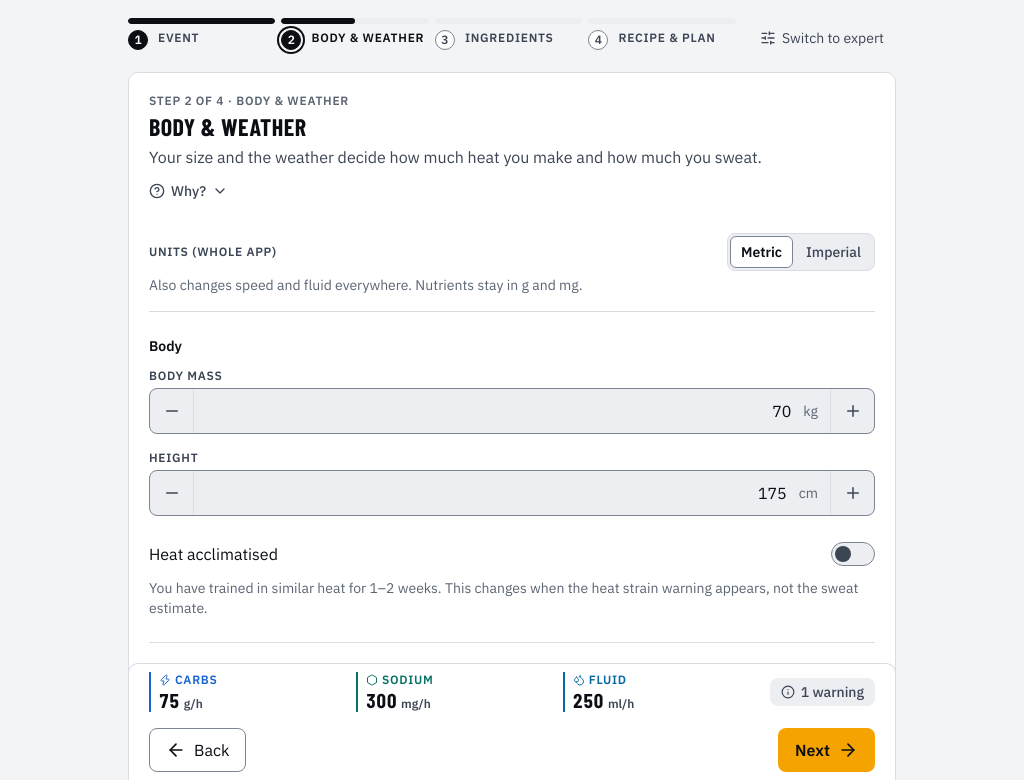
it: Guided step 2: sweat › answers No for the estimate and shows the estimate, the saltiness and its warnings
This screenshot has width=1024, height=780.
Click the button with test id "guided-next" at (827, 750), box [778, 728, 875, 772]
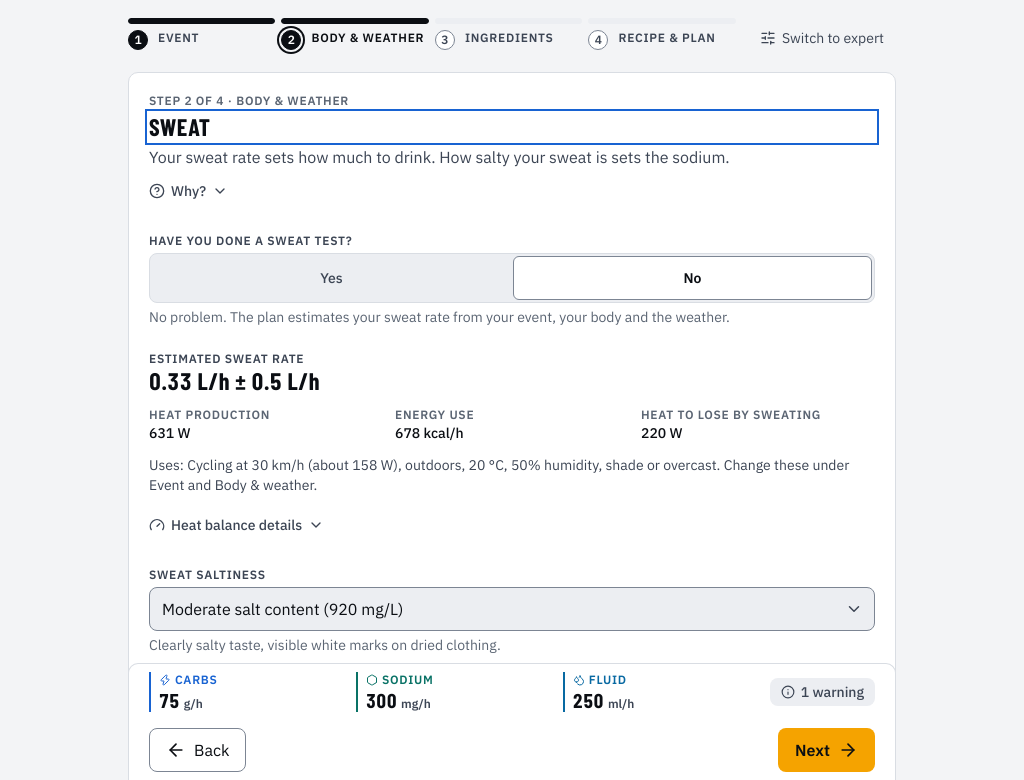
Expected: the element with test id "sweat-estimate-panel" is shown, [149, 351, 875, 543]
Expected: the dropdown labelled "Sweat saltiness" is shown, [149, 587, 875, 631]
